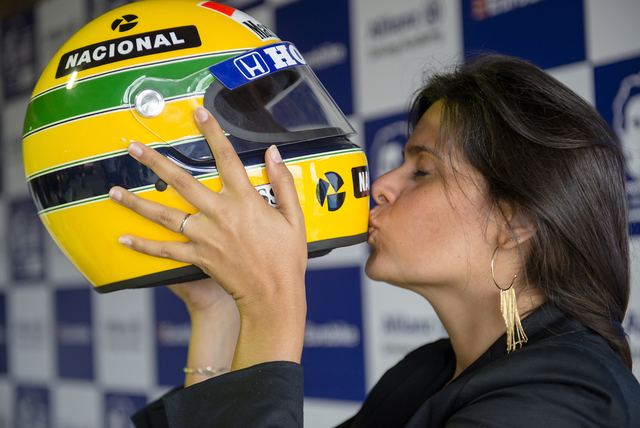helmet: (27, 11, 391, 275)
